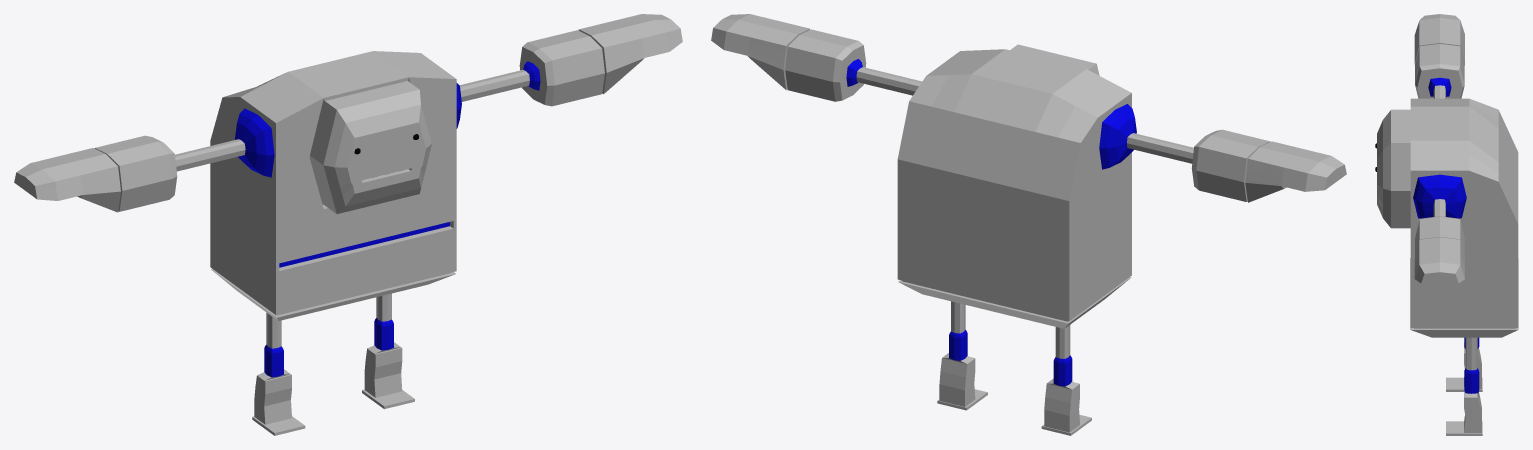
The model's file is bigRobot.fbx.
The picture shows the model from 3 angles, left to right: view 1: azimuth 30°, elevation 25°; view 2: azimuth 150°, elevation 25°; view 3: azimuth 270°, elevation 25°; orthographic projection. The views are drawn at different scales.
Visible parts, largest first — view 1: Cube; view 2: Cube; view 3: Cube.
Part boxes in pixels (x1,y1,x2,y2): Cube: (14,14,682,435); Cube: (711,14,1346,435); Cube: (1375,14,1518,435).
Size of the model in its own units: 715 by 367 by 168.
